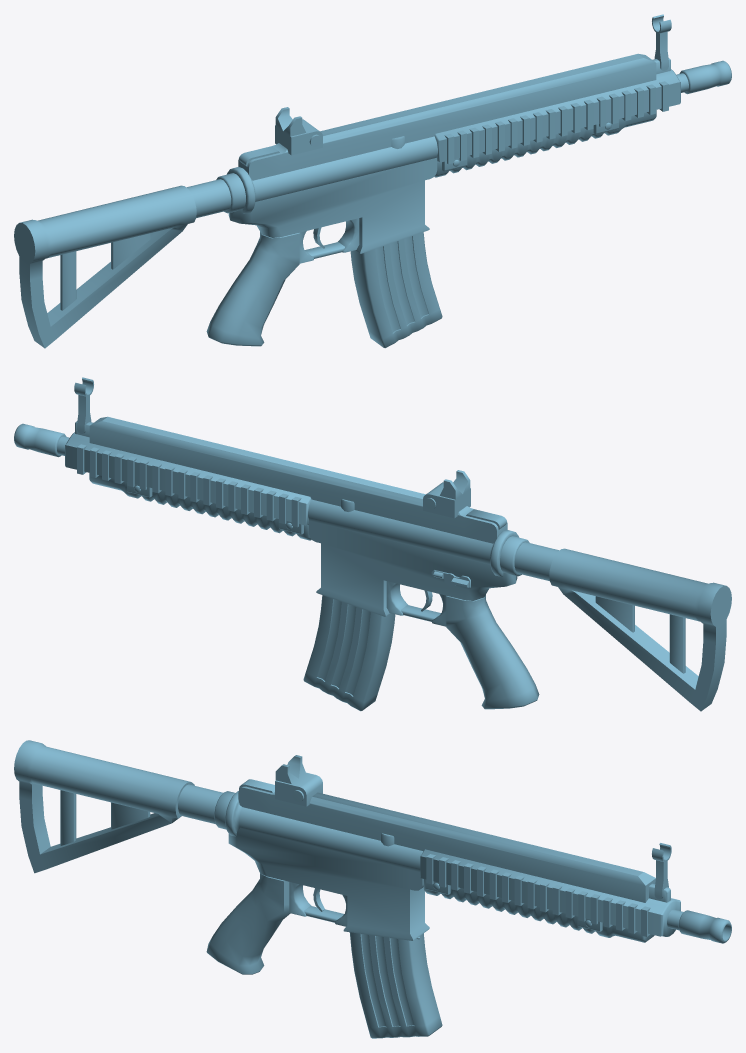
File: rifle_01.fbx
3 views of the same model, one above another, from view 1: azimuth 30°, elevation 25°; view 2: azimuth 150°, elevation 25°; view 3: azimuth 330°, elevation 25° (orthographic).
Parts seen in each view (by area): view 1: rifle_01, rifle_mag_01; view 2: rifle_01, rifle_mag_01; view 3: rifle_01, rifle_mag_01.
Part boxes in pixels (x1,y1,x2,y2): rifle_01: (14,14,731,348); rifle_mag_01: (350,232,442,348); rifle_01: (14,377,731,711); rifle_mag_01: (303,595,395,711); rifle_01: (14,740,731,974); rifle_mag_01: (349,932,442,1038).
Size of the model in its own units: 87.05 by 30.36 by 5.06.
